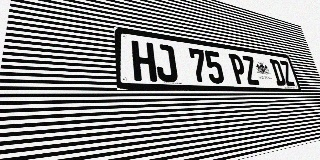5: (204, 50, 225, 84)
7: (187, 48, 210, 83)
D: (269, 59, 287, 86)
H: (131, 40, 157, 82)
J: (154, 43, 178, 82)
P: (228, 53, 248, 84)
Z: (241, 55, 260, 85), (279, 60, 296, 86)
